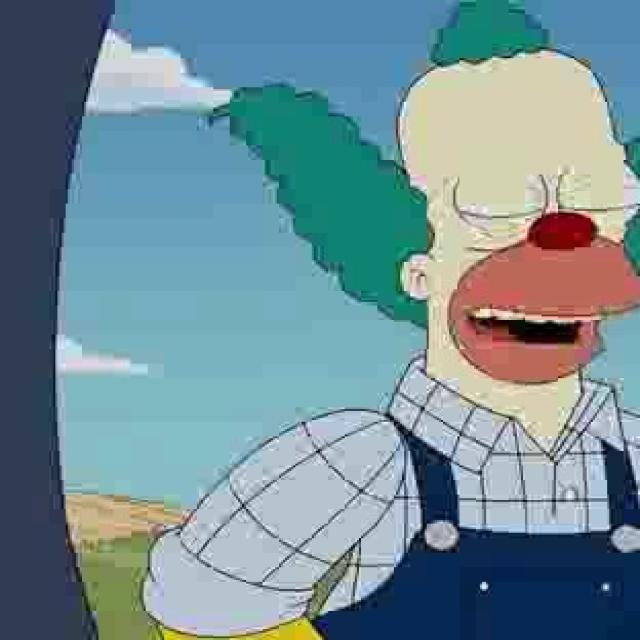Krusty the Clown: (221, 0, 640, 436)
